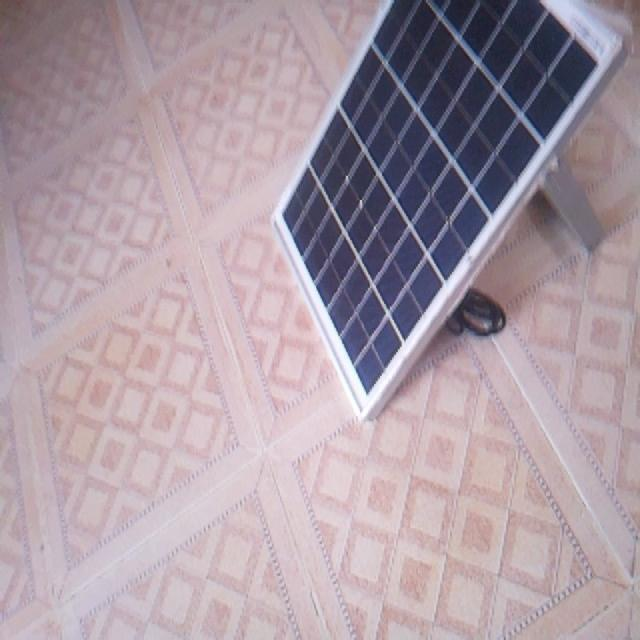Normal Solar Panel: (273, 1, 624, 417)
